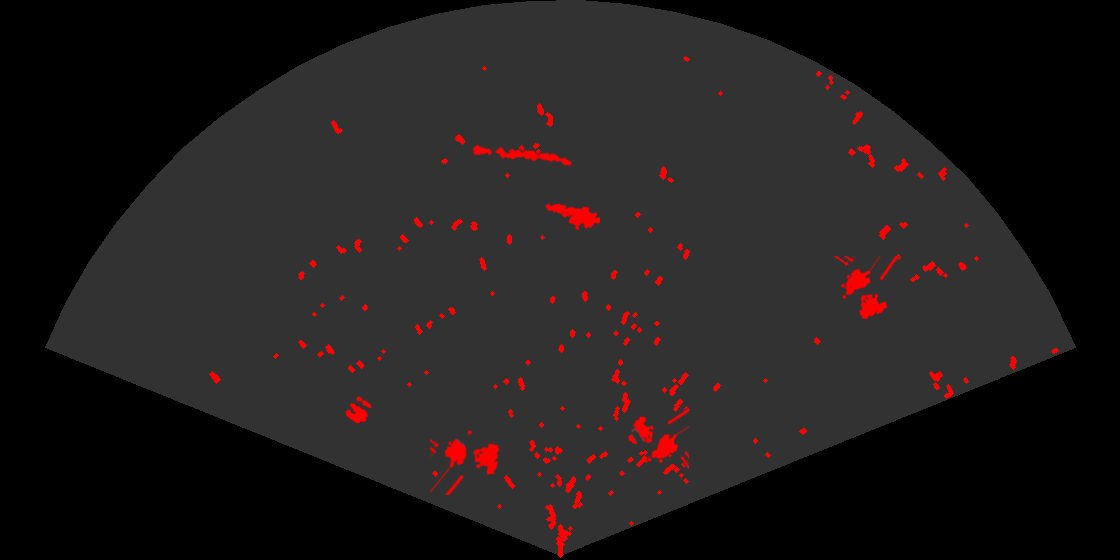ball: (344, 395, 373, 425)
cage: (430, 428, 501, 495), (832, 256, 901, 321), (627, 406, 689, 471)
chain: (471, 142, 574, 168)
frogman: (543, 202, 600, 232)
